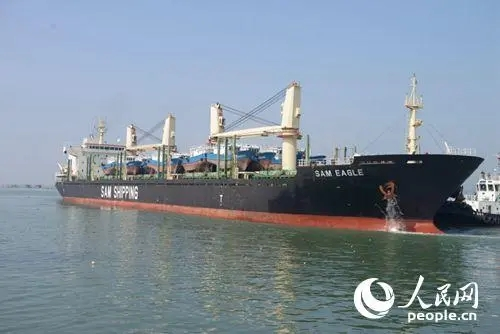Cargoship: (48, 80, 500, 221)
